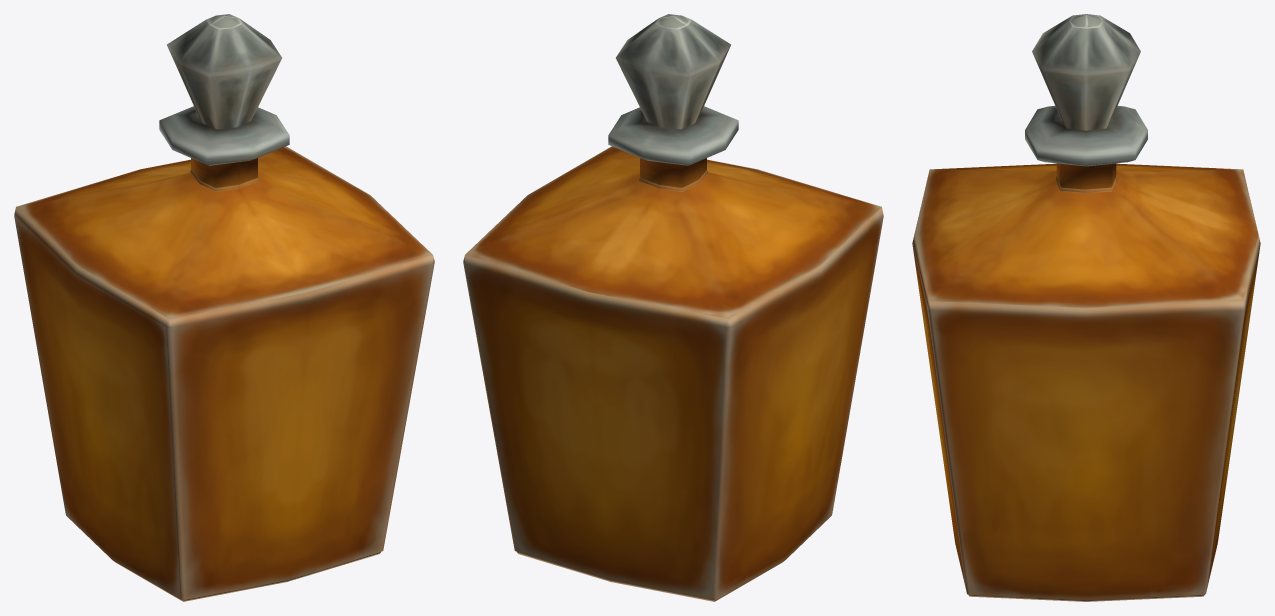
The model's file is AlcoholBottle.fbx.
3 renders of one model, left to right at view 1: azimuth 30°, elevation 25°; view 2: azimuth 150°, elevation 25°; view 3: azimuth 270°, elevation 25°, orthographic. The views are drawn at different scales.
Visible parts, largest first — view 1: RingmasterAlcohol2; view 2: RingmasterAlcohol2; view 3: RingmasterAlcohol2.
Part boxes in pixels (<box>): RingmasterAlcohol2: <box>14,14,434,601</box>; RingmasterAlcohol2: <box>463,14,883,601</box>; RingmasterAlcohol2: <box>912,14,1260,601</box>.
Size of the model in its own units: 13.83 by 23.1 by 13.69.
